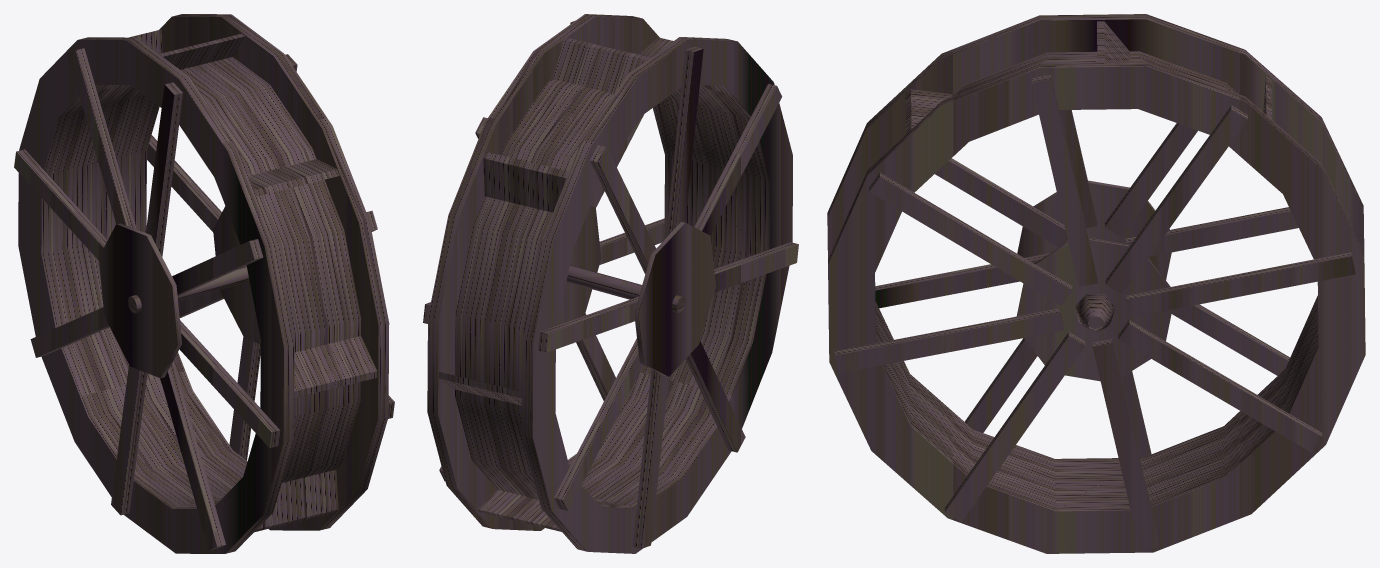
The model's file is MolinoAgua.obj.
3 views of the same model, side by side, from view 1: azimuth 30°, elevation 25°; view 2: azimuth 150°, elevation 25°; view 3: azimuth 270°, elevation 25° (orthographic). The views are drawn at different scales.
Parts seen in each view (by area): view 1: mill:mill:mill:mill:pCylinder1; view 2: mill:mill:mill:mill:pCylinder1; view 3: mill:mill:mill:mill:pCylinder1.
Part boxes in pixels (x1=…): mill:mill:mill:mill:pCylinder1: x1=14, y1=14, x2=394, y2=553; mill:mill:mill:mill:pCylinder1: x1=423, y1=14, x2=798, y2=553; mill:mill:mill:mill:pCylinder1: x1=827, y1=14, x2=1365, y2=553.
Bounding box in the file's own units: 2.98 × 9.01 × 9.02.
